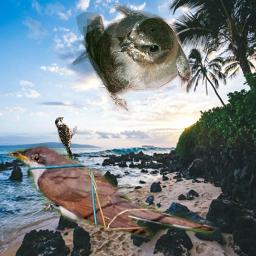Cuckoo: (5, 141, 220, 245)
Swallow: (69, 5, 193, 116)
Woodpecker: (55, 117, 77, 160)
